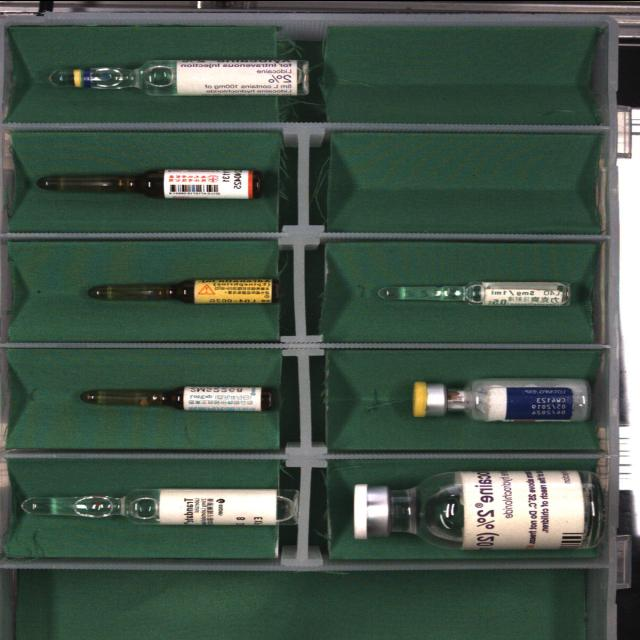Vials: (354, 469, 603, 549), (413, 377, 591, 420)
